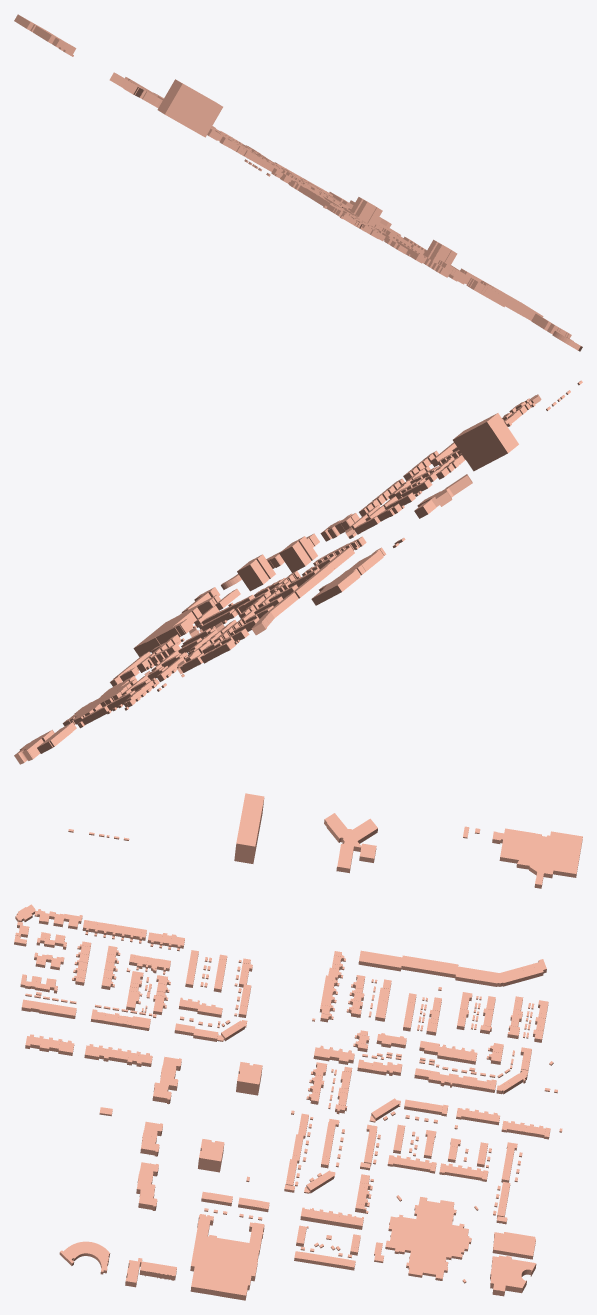
The picture shows the model from 3 angles, top to bottom: view 1: azimuth 30°, elevation 25°; view 2: azimuth 150°, elevation 25°; view 3: azimuth 270°, elevation 25°; orthographic projection. The views are drawn at different scales.
Bounding box in the file's own units: 504 × 420 × 645.
